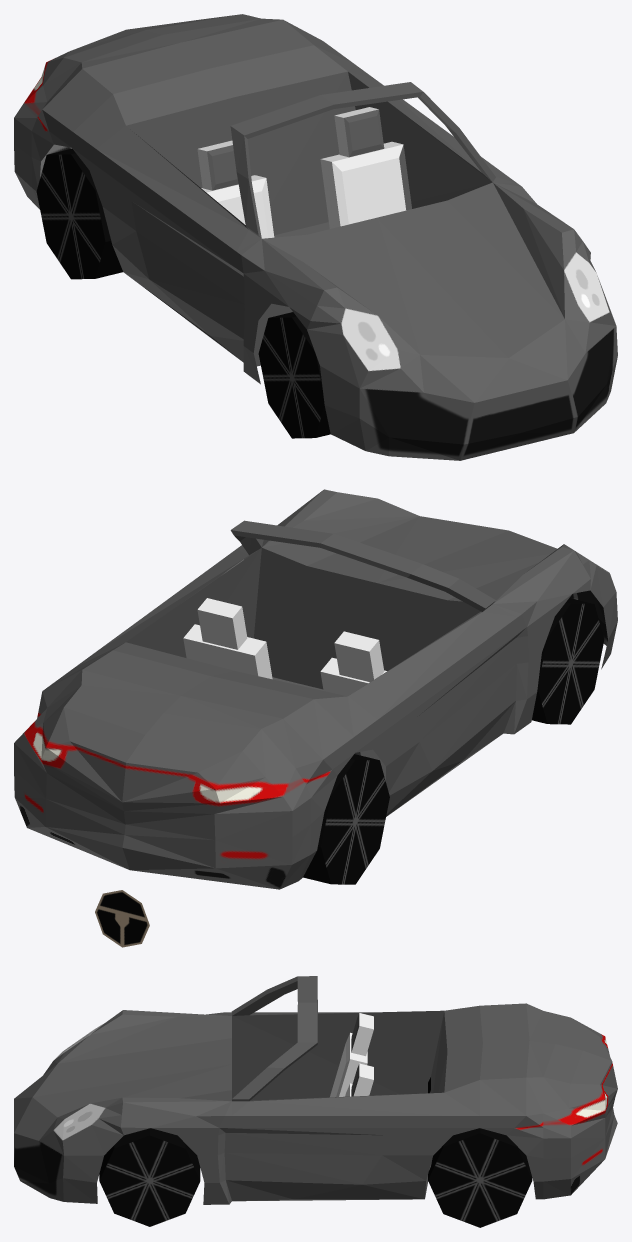
The model's file is Porsche 911.obj.
3 renders of one model, top to bottom at view 1: azimuth 30°, elevation 25°; view 2: azimuth 150°, elevation 25°; view 3: azimuth 270°, elevation 25°, orthographic. The views are drawn at different scales.
Visible parts, largest first — view 1: Porsche_911; view 2: Porsche_911, Steering_Wheel; view 3: Porsche_911.
Part boxes in pixels (x1,y1,x2,y2): Porsche_911: (14, 14, 617, 460); Porsche_911: (14, 489, 617, 889); Steering_Wheel: (95, 890, 149, 947); Porsche_911: (14, 976, 617, 1227).
Bounding box in the file's own units: 1.86 × 1.62 × 4.51.
3 materials, 3 textured.
